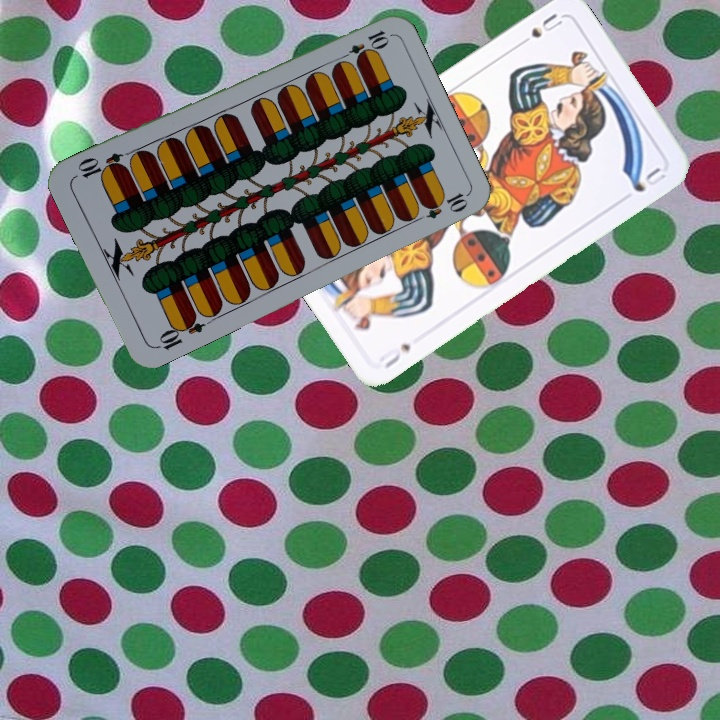E10: (151, 310, 207, 353), (335, 26, 391, 65)
SU: (512, 9, 565, 50), (375, 339, 414, 371)
